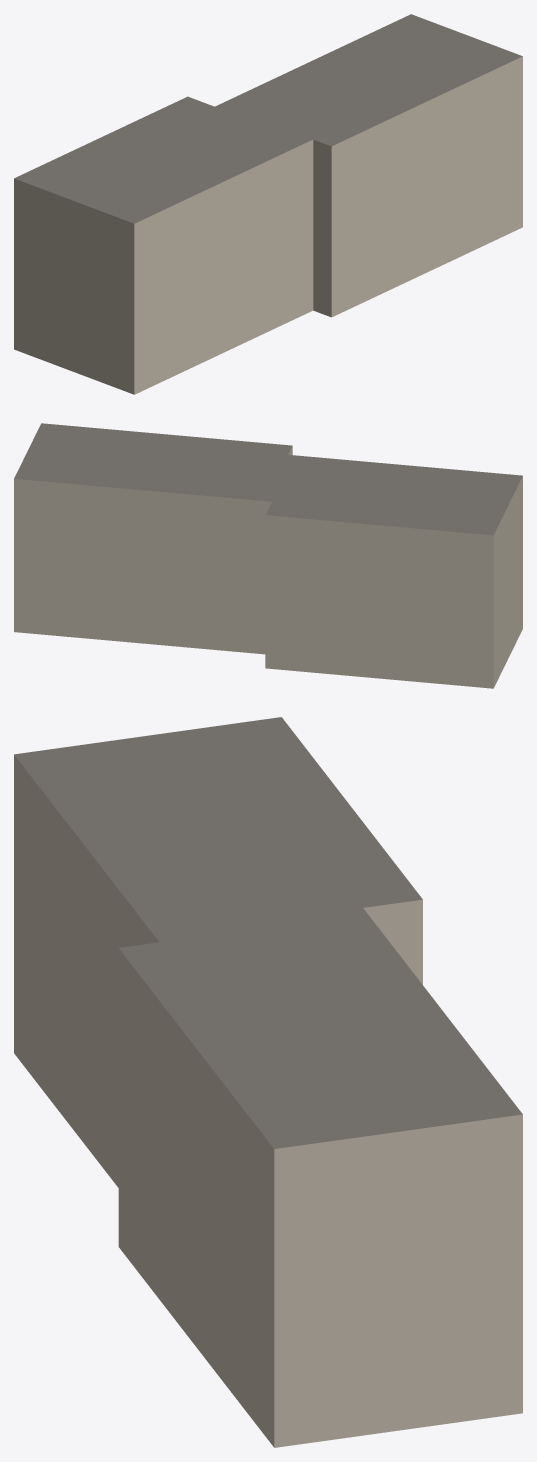
The picture shows the model from 3 angles, top to bottom: view 1: azimuth 30°, elevation 25°; view 2: azimuth 150°, elevation 25°; view 3: azimuth 270°, elevation 25°; orthographic projection. The views are drawn at different scales.
Parts seen in each view (by area): view 1: HP-w299224160; view 2: HP-w299224160; view 3: HP-w299224160.
Part boxes in pixels (x1,y1,x2,y2): HP-w299224160: [14, 14, 522, 394]; HP-w299224160: [14, 423, 522, 688]; HP-w299224160: [14, 717, 522, 1447].
Size of the model in its own units: 55.82 by 18 by 27.78.
